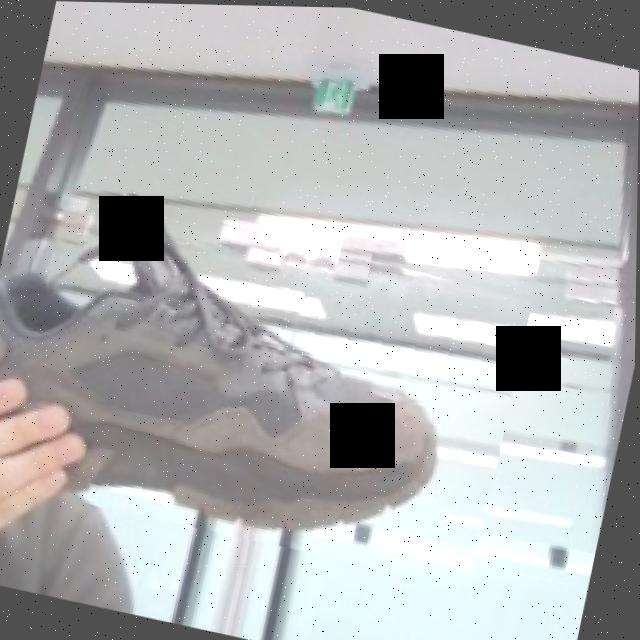shoe: (0, 172, 538, 586)
